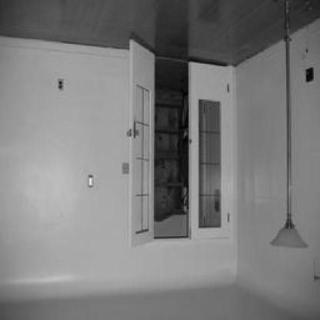other: (146, 5, 249, 64)
